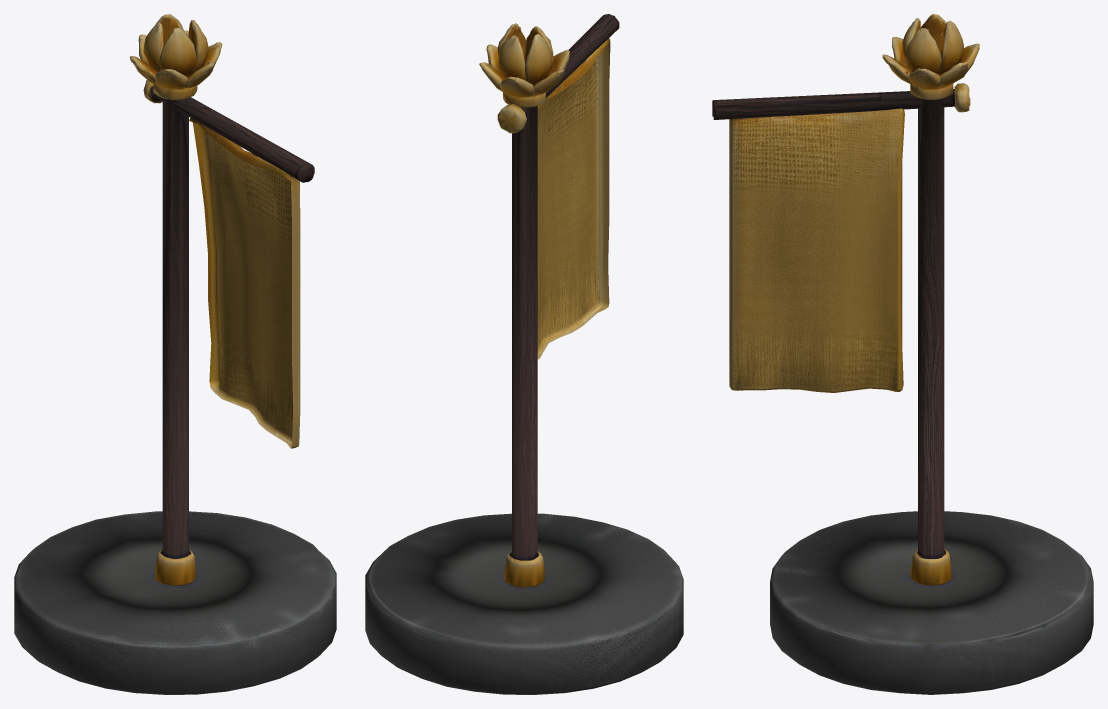
The model's file is tripo_convert_c7088bb4-ce42-4253-847e-d16f527135c6.fbx.
3 views of the same model, side by side, from view 1: azimuth 30°, elevation 25°; view 2: azimuth 150°, elevation 25°; view 3: azimuth 270°, elevation 25° (orthographic).
Visible parts, largest first — view 1: tripo_node_c7088bb4; view 2: tripo_node_c7088bb4; view 3: tripo_node_c7088bb4.
Boxes of the visible parts, <box> form: tripo_node_c7088bb4: <box>14,14,336,694</box>; tripo_node_c7088bb4: <box>365,14,683,694</box>; tripo_node_c7088bb4: <box>712,14,1093,694</box>.
Size of the model in its own units: 0.4824 by 0.998 by 0.5684.
Materials: 1 (1 with a texture image).
